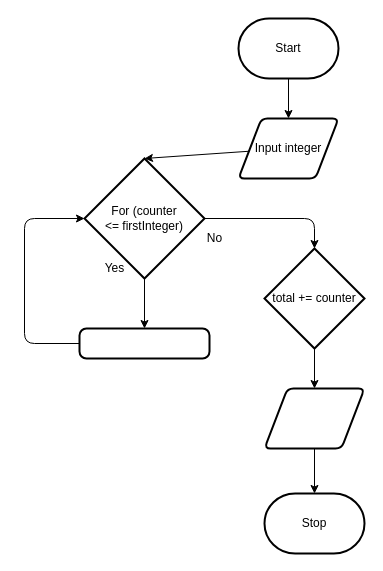
Some shapes in this 383 by 571 pixel diagram are drawn without their labels. Here are the shapes that lost their labels. From the top down, the centre of each, then its label:
(x=144, y=343): counter = counter+1
(x=314, y=418): print "total"
